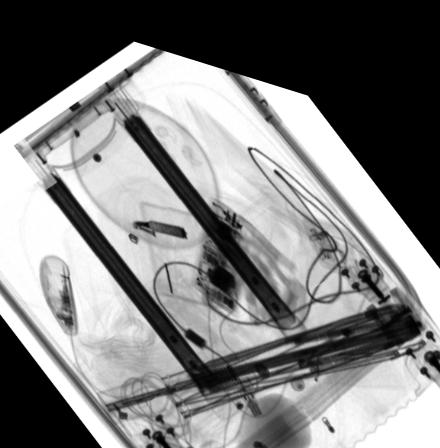Bullet: (129, 209, 187, 227)
